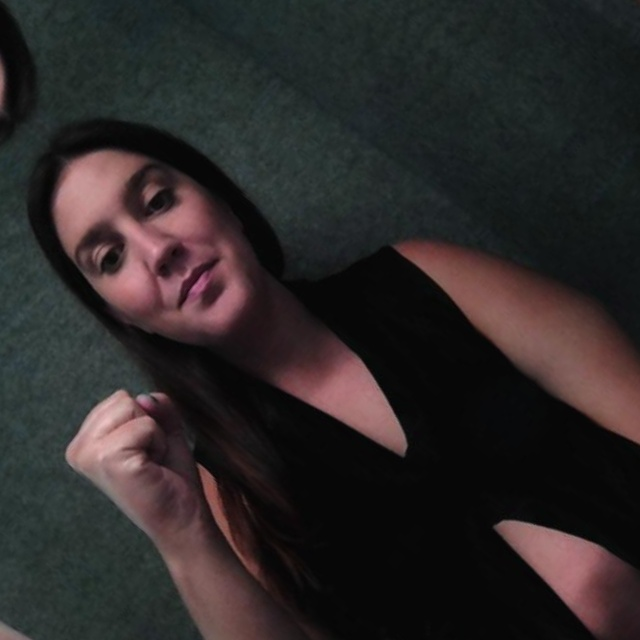Rock: (0, 544, 93, 640)
